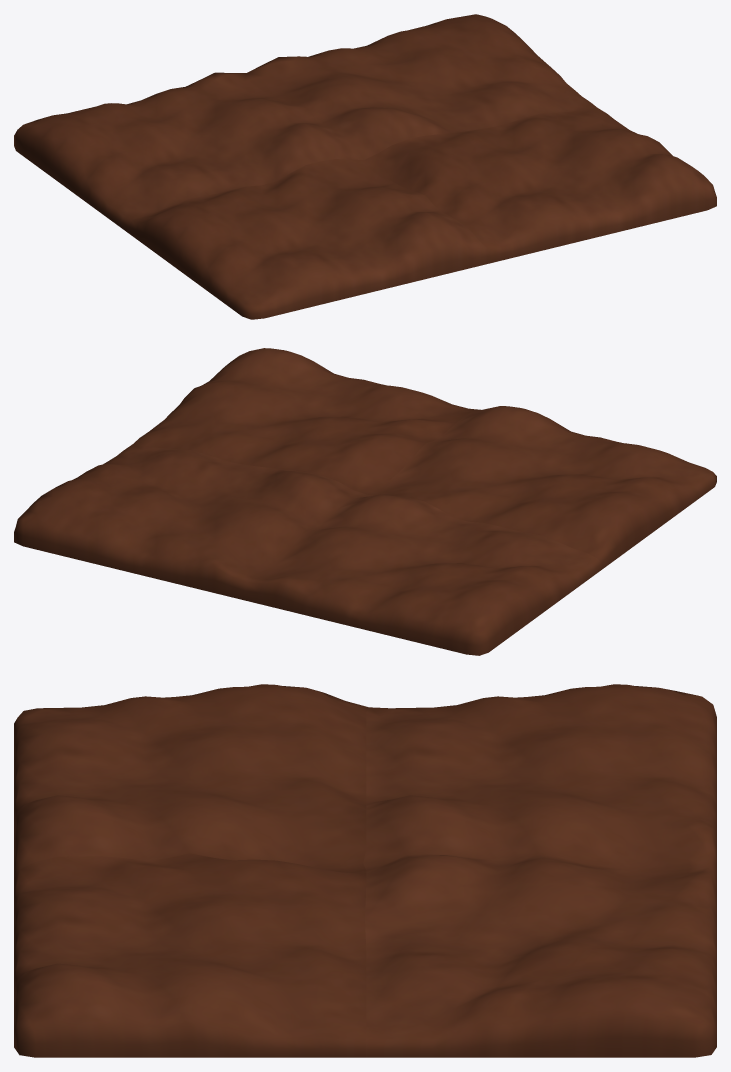
File: Soil Four.fbx
3 views of the same model, one above another, from view 1: azimuth 30°, elevation 25°; view 2: azimuth 150°, elevation 25°; view 3: azimuth 270°, elevation 25° (orthographic). The views are drawn at different scales.
Parts seen in each view (by area): view 1: Four1; view 2: Four1; view 3: Four1.
Part boxes in pixels (bbox=[...]): Four1: bbox=[14, 14, 716, 319]; Four1: bbox=[14, 348, 716, 655]; Four1: bbox=[14, 684, 716, 1057].
Bounding box in the file's own units: 17.94 × 1.43 × 15.86.
